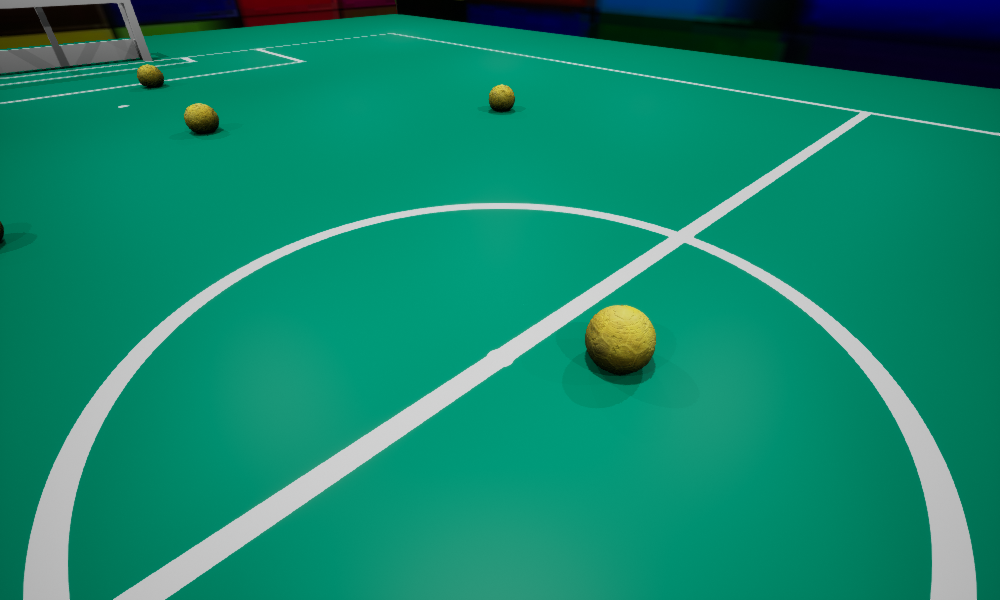b: (585, 305, 655, 373), (184, 103, 218, 133), (489, 84, 514, 111), (137, 64, 163, 87), (0, 221, 3, 240)
g: (0, 0, 151, 73)
